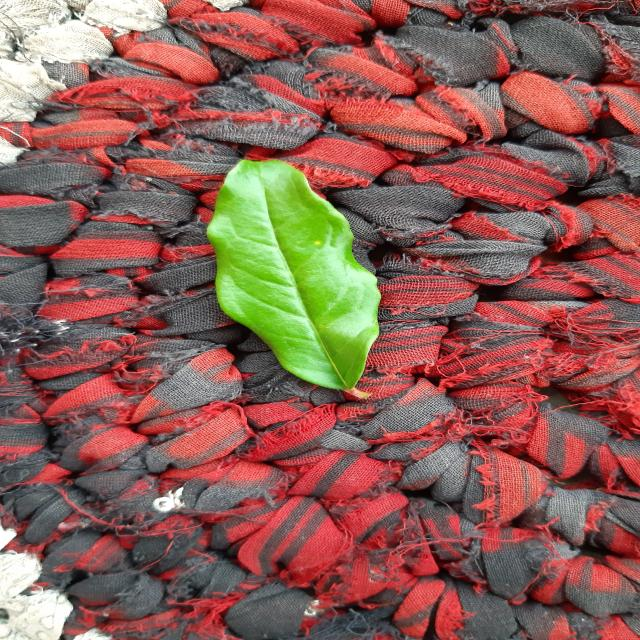pomgranate: (207, 160, 380, 395)
